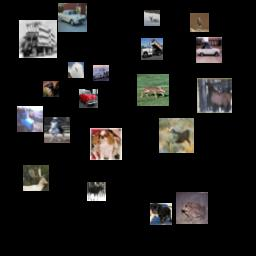automobile: (58, 3, 87, 32), (196, 37, 222, 63), (79, 89, 98, 108), (93, 65, 109, 81)
bird: (190, 13, 209, 32), (43, 81, 59, 97), (68, 62, 84, 78)
deer: (159, 118, 194, 153), (197, 78, 232, 113), (137, 74, 169, 106), (23, 165, 49, 191), (87, 182, 106, 201), (144, 10, 160, 26)
dog: (90, 128, 122, 160), (150, 203, 172, 225)
frog: (176, 192, 208, 224)
truck: (19, 20, 57, 58), (17, 106, 43, 132), (141, 38, 163, 60)
